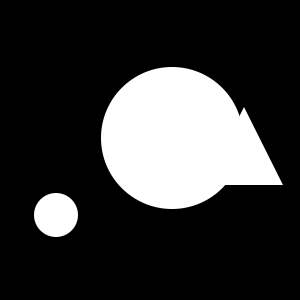rectangle: (101, 67, 243, 209), (34, 193, 78, 237)
triangle: (205, 107, 283, 185)
